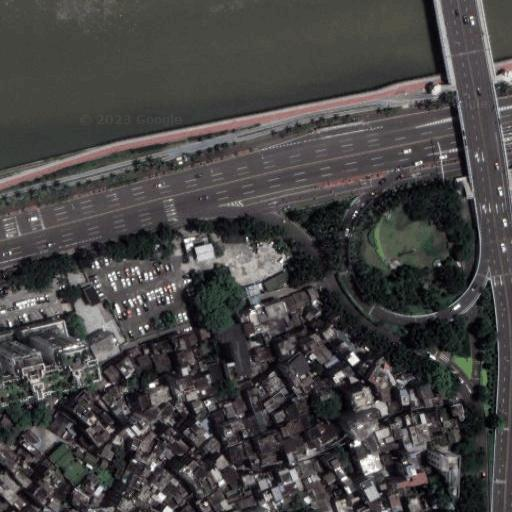building: (0, 328, 76, 386), (0, 321, 73, 358), (215, 323, 252, 377), (347, 409, 388, 439), (327, 456, 358, 495), (408, 420, 438, 451), (70, 390, 99, 421), (86, 329, 118, 354), (179, 459, 206, 487), (367, 359, 393, 388), (62, 458, 89, 485), (150, 439, 176, 464), (25, 478, 51, 503), (19, 438, 46, 462), (161, 480, 186, 505), (123, 472, 148, 497), (358, 453, 383, 477), (302, 471, 325, 497), (135, 431, 158, 457), (352, 388, 377, 411), (147, 468, 172, 491), (277, 415, 303, 437), (359, 478, 381, 504), (88, 422, 111, 446), (205, 490, 230, 512), (82, 284, 103, 310), (289, 353, 312, 376), (167, 435, 190, 458), (101, 361, 124, 384), (264, 391, 288, 413), (303, 332, 328, 353), (264, 272, 290, 292), (373, 425, 396, 447), (184, 420, 207, 442), (97, 438, 119, 461), (148, 384, 173, 404), (263, 372, 285, 394), (68, 483, 90, 505), (49, 415, 70, 437), (294, 376, 317, 396), (284, 365, 304, 387), (226, 443, 246, 465), (192, 430, 214, 450), (350, 436, 368, 460), (228, 488, 255, 504), (132, 416, 152, 437), (142, 450, 162, 471), (116, 356, 136, 377), (49, 444, 70, 464), (111, 463, 131, 484), (266, 300, 288, 319), (360, 432, 379, 454), (254, 343, 276, 362), (303, 437, 325, 456), (111, 403, 130, 425), (222, 464, 241, 486), (42, 493, 64, 512), (207, 359, 225, 382), (56, 451, 76, 471), (314, 344, 333, 365), (315, 491, 334, 512), (257, 436, 278, 455), (156, 403, 175, 423), (137, 483, 156, 503), (126, 455, 145, 475), (13, 469, 33, 488), (278, 479, 299, 497), (190, 375, 211, 393), (240, 439, 258, 460), (184, 237, 198, 263), (342, 348, 361, 367), (203, 438, 222, 457), (160, 426, 179, 445), (279, 337, 299, 355), (217, 419, 234, 440), (430, 498, 455, 512), (282, 433, 300, 452), (178, 348, 196, 367), (77, 492, 96, 510), (22, 428, 41, 446), (194, 244, 214, 261), (408, 471, 428, 488), (155, 352, 171, 373), (403, 410, 421, 428), (144, 404, 162, 422), (119, 425, 137, 443), (150, 488, 168, 506), (358, 361, 375, 380), (388, 415, 407, 432), (277, 465, 294, 484), (297, 458, 314, 477), (85, 469, 102, 488), (152, 339, 172, 355), (407, 389, 422, 410), (223, 359, 238, 380), (303, 303, 321, 320), (339, 330, 356, 348), (282, 403, 300, 420), (176, 376, 193, 394), (232, 397, 249, 415), (212, 454, 230, 471), (179, 416, 197, 433), (293, 290, 309, 309), (117, 497, 137, 512), (395, 371, 418, 384), (303, 424, 320, 441), (249, 455, 266, 472), (444, 427, 461, 444), (21, 452, 39, 468), (450, 470, 461, 496), (195, 497, 214, 512), (379, 440, 399, 454), (288, 308, 302, 328), (174, 399, 188, 419), (428, 451, 445, 467), (322, 470, 339, 486), (186, 331, 203, 347), (174, 336, 191, 352), (190, 397, 207, 413), (107, 384, 123, 401), (123, 392, 139, 409), (17, 459, 34, 475), (249, 395, 264, 413), (179, 389, 197, 404), (402, 435, 416, 454), (195, 386, 214, 400), (253, 411, 267, 430), (238, 495, 257, 509), (128, 435, 144, 451), (335, 497, 352, 512), (392, 426, 410, 440), (305, 287, 319, 305), (223, 401, 237, 419), (203, 392, 219, 407), (83, 412, 98, 428), (74, 445, 89, 461), (137, 464, 153, 479), (450, 404, 465, 420), (298, 412, 312, 429), (229, 419, 246, 433), (262, 451, 279, 465), (393, 479, 411, 492), (249, 307, 262, 325), (223, 435, 241, 448), (213, 408, 228, 423), (81, 478, 96, 493), (138, 354, 152, 370), (257, 305, 270, 322), (289, 463, 302, 480), (390, 495, 403, 512), (323, 328, 338, 342), (331, 370, 346, 384), (342, 365, 356, 380), (284, 450, 298, 465), (98, 410, 113, 424), (110, 435, 124, 450), (84, 452, 99, 466), (131, 495, 146, 509), (244, 284, 260, 297), (284, 295, 297, 311), (270, 485, 283, 501), (103, 392, 116, 408), (239, 380, 256, 392), (442, 418, 459, 430), (19, 502, 39, 512), (318, 387, 332, 401), (296, 324, 310, 338), (91, 484, 105, 498), (420, 385, 435, 398), (119, 400, 132, 415), (135, 394, 148, 409), (315, 421, 327, 437), (223, 236, 246, 244), (309, 316, 323, 329), (405, 463, 419, 476), (325, 356, 339, 369), (408, 498, 421, 512), (243, 415, 257, 428), (91, 403, 104, 417), (244, 321, 256, 336), (127, 346, 142, 358), (139, 343, 154, 355), (336, 341, 349, 354), (419, 499, 432, 512), (12, 497, 25, 510), (368, 500, 382, 512), (197, 359, 209, 373), (241, 427, 253, 441), (99, 457, 111, 471), (311, 460, 323, 473), (188, 362, 201, 374), (191, 344, 203, 357), (67, 423, 80, 435), (211, 470, 223, 483), (295, 477, 306, 491), (381, 451, 392, 465), (247, 294, 262, 304), (243, 474, 255, 486), (388, 400, 401, 411), (274, 412, 287, 423), (263, 330, 272, 345), (381, 390, 392, 402), (418, 412, 430, 423), (247, 387, 259, 398), (423, 396, 433, 409), (400, 388, 408, 404), (5, 504, 21, 512), (199, 327, 210, 338), (180, 366, 191, 377), (295, 450, 307, 460), (62, 428, 72, 440), (258, 478, 268, 489), (217, 479, 228, 489), (208, 472, 215, 487), (226, 489, 239, 497), (232, 481, 243, 490), (357, 505, 371, 512), (245, 506, 261, 512), (161, 504, 173, 512), (256, 385, 265, 395), (183, 505, 194, 512), (242, 314, 250, 323), (207, 404, 216, 412), (151, 508, 161, 512), (379, 509, 386, 512)
